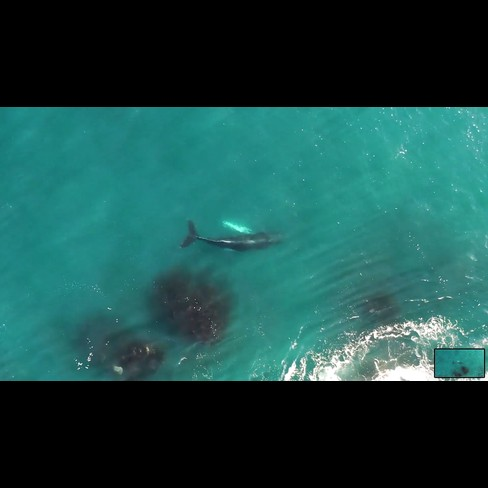hump: (177, 213, 290, 265)
